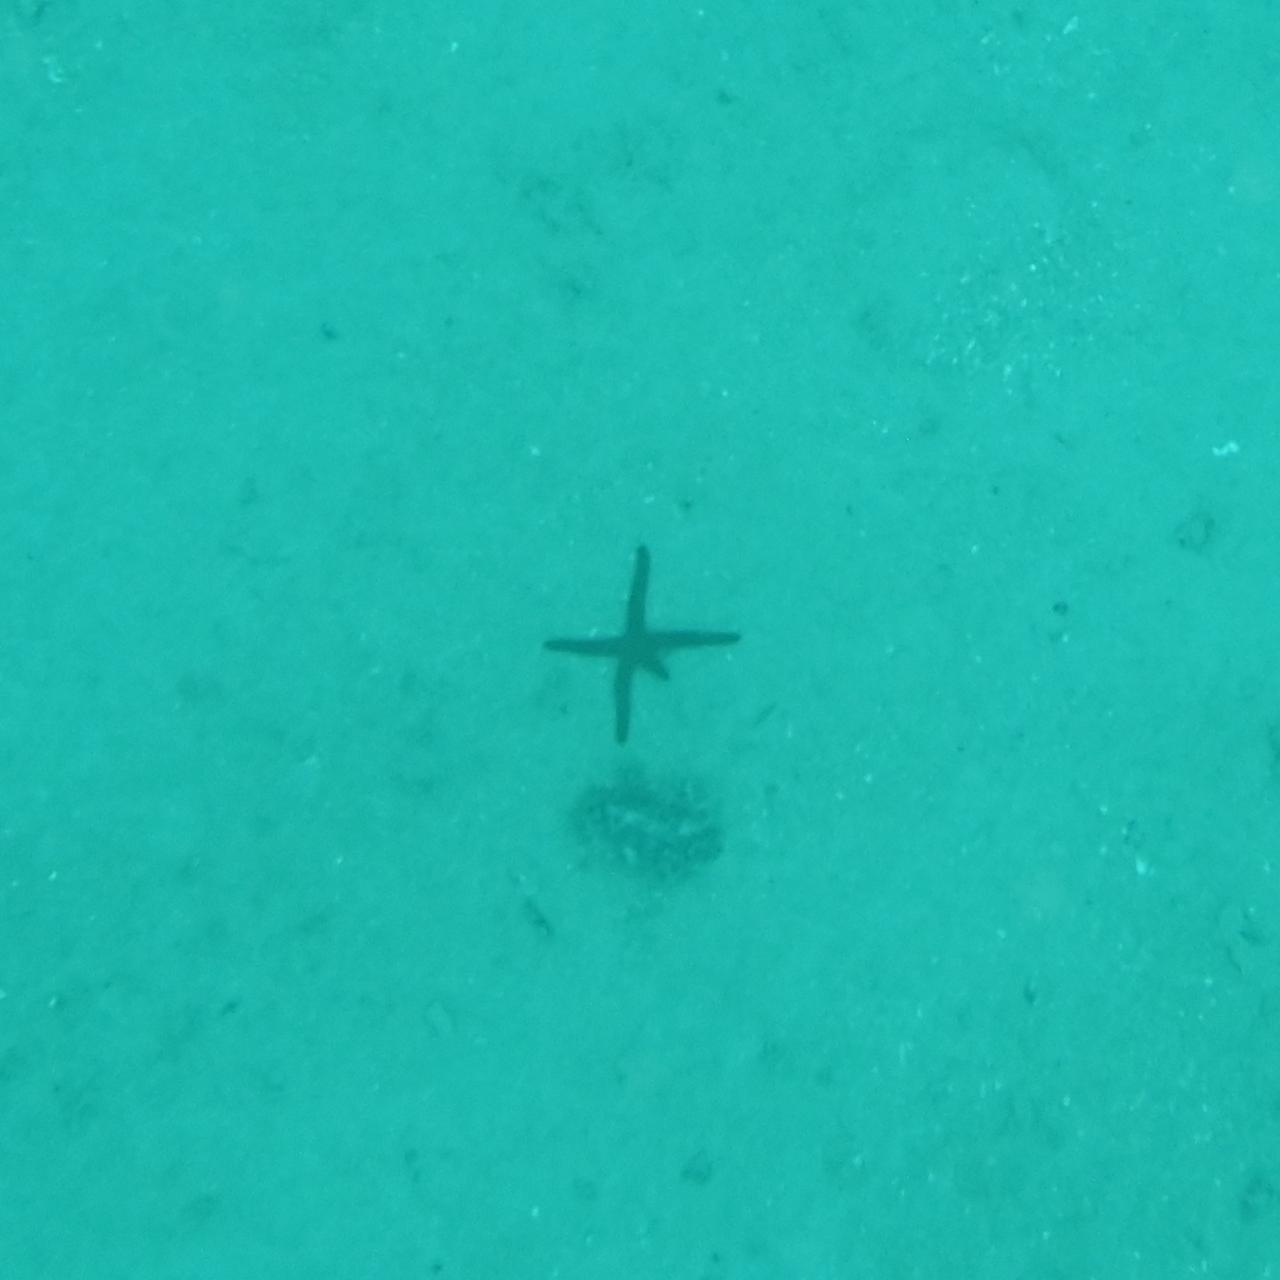Echinaster sepositus: (538, 538, 742, 742)
